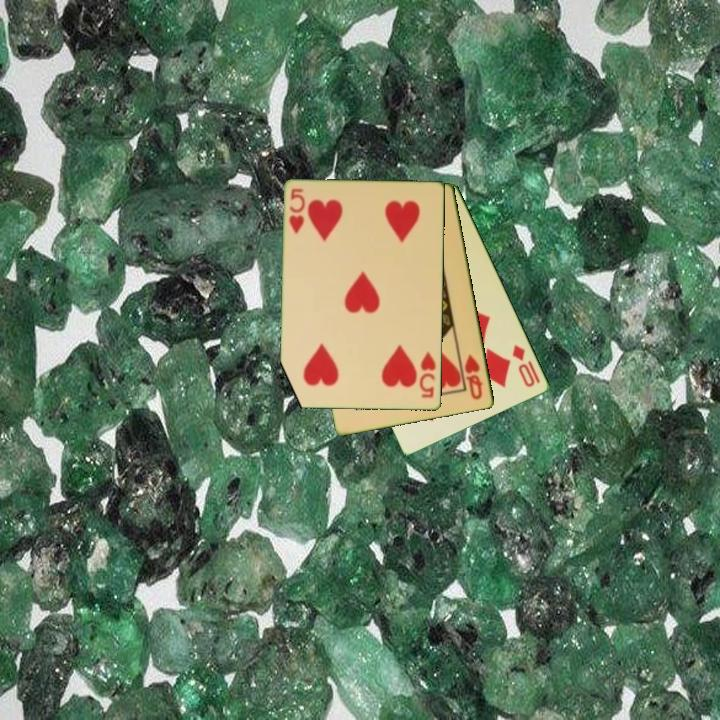10d: (509, 342, 538, 390)
5h: (416, 348, 439, 401), (286, 185, 308, 237)
Qh: (461, 351, 486, 403)
